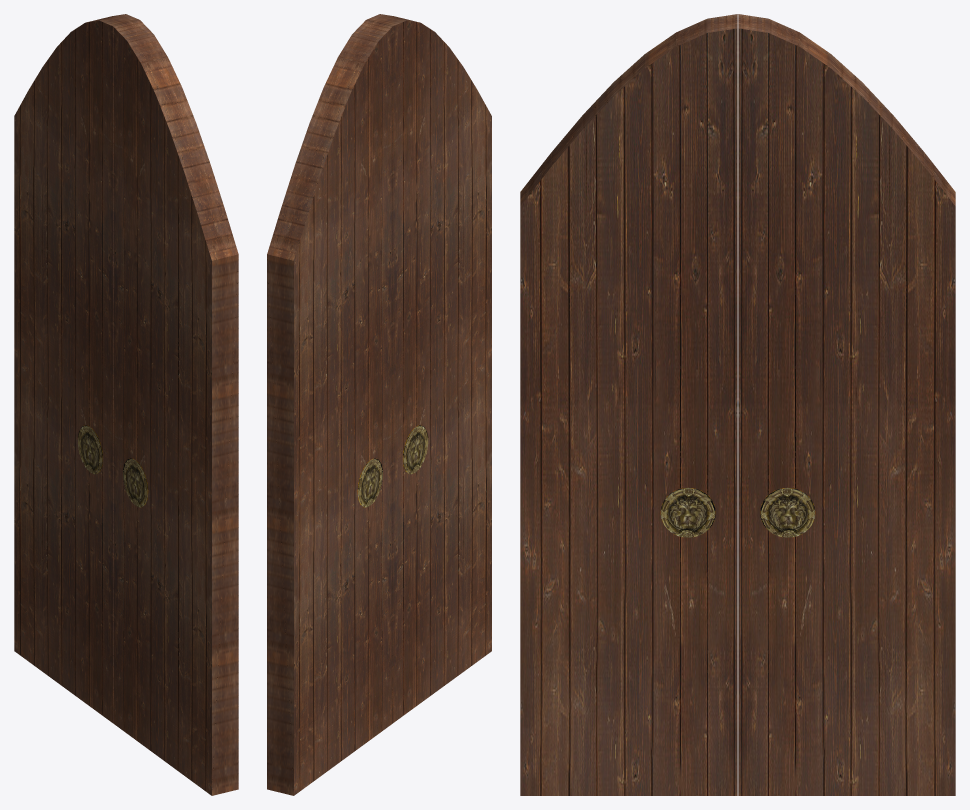
Rendered from door_in_gates.FBX.
3 renders of one model, left to right at view 1: azimuth 30°, elevation 25°; view 2: azimuth 150°, elevation 25°; view 3: azimuth 270°, elevation 25°, orthographic. The views are drawn at different scales.
Visible parts, largest first — view 1: Rectangle004, Rectangle001; view 2: Rectangle001, Rectangle004; view 3: Rectangle004, Rectangle001.
Part boxes in pixels (bbox=[...]): Rectangle004: bbox=[113, 20, 238, 795]; Rectangle001: bbox=[14, 14, 139, 722]; Rectangle001: bbox=[267, 20, 392, 795]; Rectangle004: bbox=[366, 14, 491, 723]; Rectangle004: bbox=[520, 14, 737, 795]; Rectangle001: bbox=[738, 14, 955, 795].
Size of the model in its own units: 2.13 by 51.57 by 26.53.
Materials: 3 (3 with a texture image).
